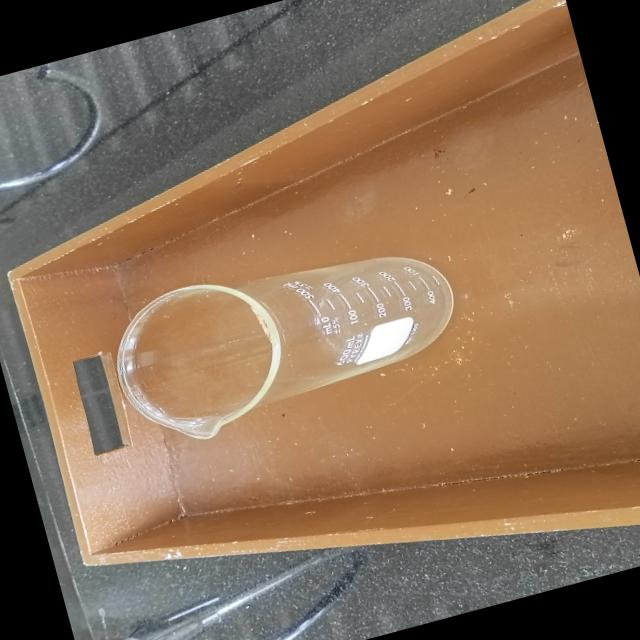beaker: (95, 214, 482, 461)
